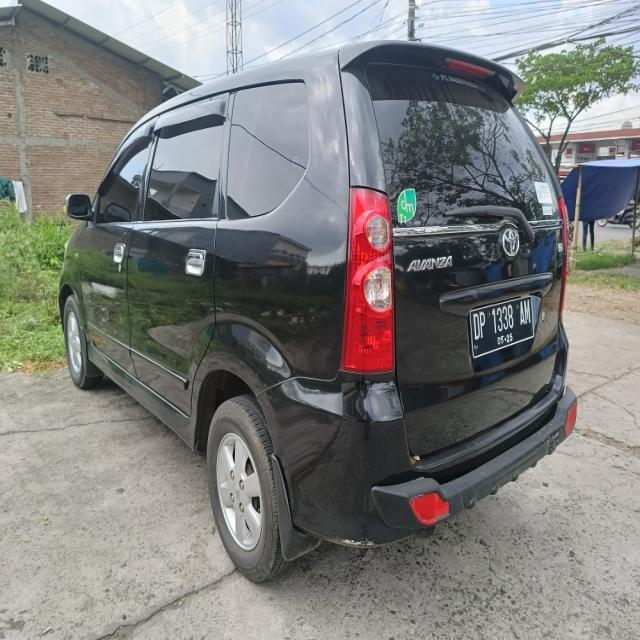plates: (468, 290, 538, 362)
